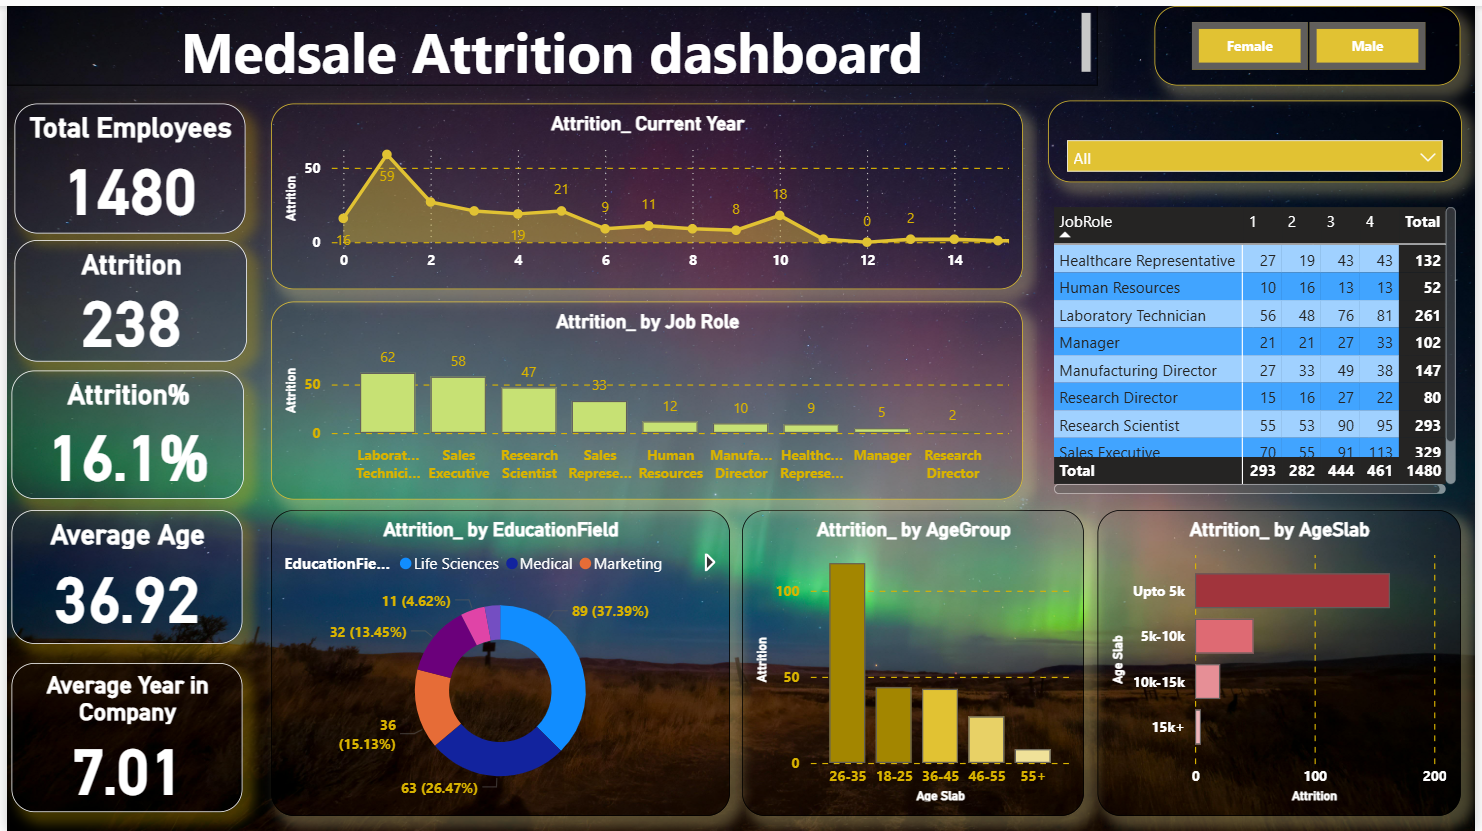

This screenshot's page, from the dashboard's own definition file:
{"tool":"powerbi","page":{"name":"Page 1","canvas":[1280,720],"ordinal":0},"visuals":[{"type":"card","title":"Total Employees","fields":{"Values":["Sum(Medsales data of attrition.EmployeeCount)"]},"box":[6.1,81.8,201.4,115.1],"z":0},{"type":"card","title":"Attrition","fields":{"Values":["Sum(Medsales data of attrition.Attrition_)"]},"box":[4.5,202.9,202.9,110.5],"z":1000},{"type":"card","title":"Attrition%","fields":{"Values":["Medsales data of attrition.Attrition Percentage"]},"box":[7.6,327.1,202.9,112.1],"z":2000},{"type":"card","title":"Average Age","fields":{"Values":["Avg(Medsales data of attrition.Age)"]},"box":[7.6,451.2,201.4,121.1],"z":3000},{"type":"card","title":"Average Year in Company","fields":{"Values":["Avg(Medsales data of attrition.YearsAtCompany)"]},"box":[6.1,586,201.4,133.3],"z":4000},{"type":"donutChart","title":" Attrition_ by EducationField","fields":{"Y":["Sum(Medsales data of attrition.Attrition_)"],"Category":["Medsales data of attrition.EducationField"]},"box":[230.2,439.1,399.8,266.5],"z":5000},{"type":"columnChart","title":"Attrition_ by AgeGroup","fields":{"Category":["Medsales data of attrition.AgeGroup"],"Y":["Sum(Medsales data of attrition.Attrition_)"]},"box":[640.5,439.1,298.3,266.5],"z":6000},{"type":"barChart","title":"Attrition_ by AgeSlab","fields":{"Y":["Sum(Medsales data of attrition.Attrition_)"],"Category":["Medsales data of attrition.SalarySlab"]},"box":[950.9,439.1,316.5,266.5],"z":7000},{"type":"columnChart","title":"Attrition_ by Job Role","fields":{"Y":["Sum(Medsales data of attrition.Attrition_)"],"Category":["Medsales data of attrition.JobRole"]},"box":[230.2,257.4,655.7,172.6],"z":8000},{"type":"areaChart","title":"Attrition_ Current Year","fields":{"Y":["Sum(Medsales data of attrition.Attrition_)"],"Category":["Medsales data of attrition.YearsAtCompany"]},"box":[230.2,84.8,655.7,162],"z":9000},{"type":"pivotTable","fields":{"Rows":["Medsales data of attrition.JobRole"],"Columns":["Medsales data of attrition.JobSatisfaction"],"Values":["Sum(Medsales data of attrition.EmployeeCount)"]},"box":[907,169.6,360.4,260.4],"z":10000},{"type":"slicer","fields":{"Values":["Medsales data of attrition.Gender"]},"box":[1000.9,0,266.5,69.7],"z":11000},{"type":"slicer","fields":{"Values":["Medsales data of attrition.Department"]},"box":[907,81.8,360.4,71.2],"z":12000},{"type":"textbox","box":[0,0,950.9,69.7],"z":13000}]}

Visuals, with their boxes in screenshot pixels (x1, y1, x2, y2), scaled from the page's 1280x720 canvas onto the 1482x831 screenshot:
"Total Employees" card: bbox=[7, 94, 240, 227]
"Attrition" card: bbox=[5, 234, 240, 362]
"Attrition%" card: bbox=[9, 378, 244, 507]
"Average Age" card: bbox=[9, 521, 242, 661]
"Average Year in Company" card: bbox=[7, 676, 240, 830]
" Attrition_ by EducationField" donutChart: bbox=[267, 507, 729, 814]
"Attrition_ by AgeGroup" columnChart: bbox=[742, 507, 1087, 814]
"Attrition_ by AgeSlab" barChart: bbox=[1101, 507, 1467, 814]
"Attrition_ by Job Role" columnChart: bbox=[267, 297, 1026, 496]
"Attrition_ Current Year" areaChart: bbox=[267, 98, 1026, 285]
pivotTable - Medsales data of attrition.JobRole x Medsales data of attrition.JobSatisfaction: bbox=[1050, 196, 1467, 496]
slicer - Medsales data of attrition.Gender: bbox=[1159, 0, 1467, 80]
slicer - Medsales data of attrition.Department: bbox=[1050, 94, 1467, 177]
textbox: bbox=[0, 0, 1101, 80]
